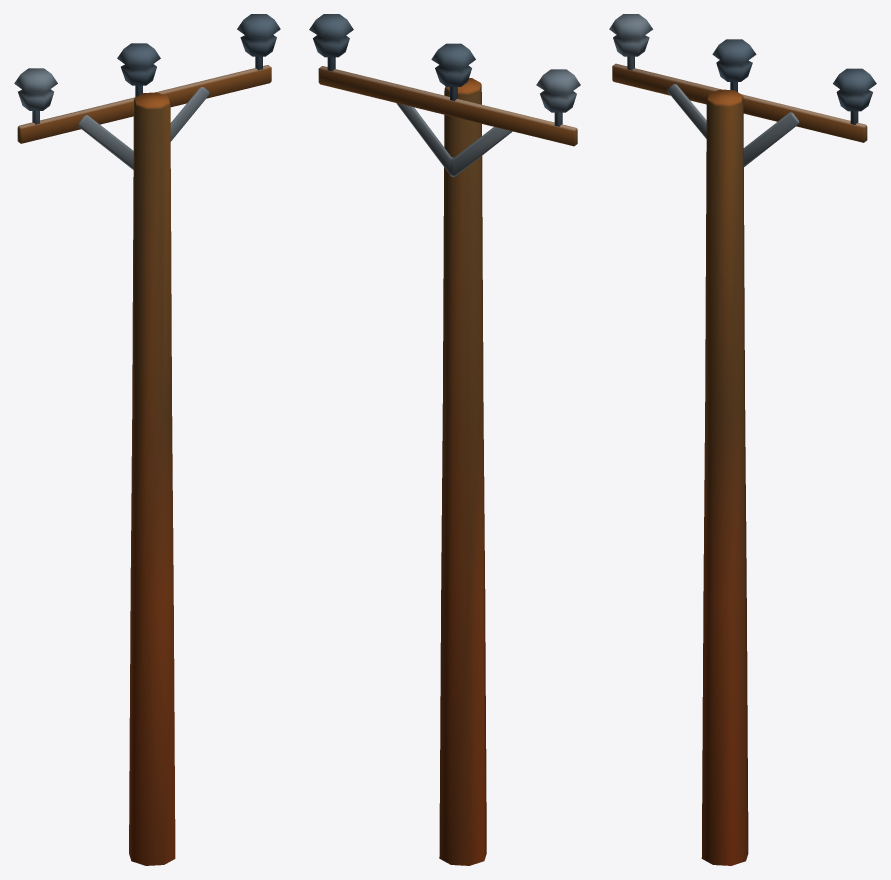
File: TelegraphPole02.fbx
The picture shows the model from 3 angles, left to right: view 1: azimuth 30°, elevation 25°; view 2: azimuth 150°, elevation 25°; view 3: azimuth 330°, elevation 25°; orthographic projection.
Parts seen in each view (by area): view 1: TelegraphPole02; view 2: TelegraphPole02; view 3: TelegraphPole02.
Part boxes in pixels (x1,y1,x2,y2): TelegraphPole02: (14, 14, 280, 865); TelegraphPole02: (309, 14, 580, 865); TelegraphPole02: (609, 14, 876, 865).
Size of the model in its own units: 229 by 680 by 51.17.
